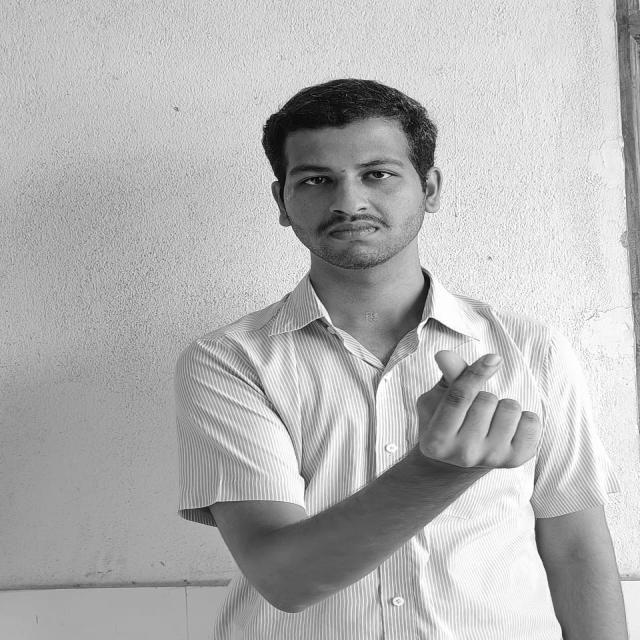Grattitude: (412, 350, 543, 475)
